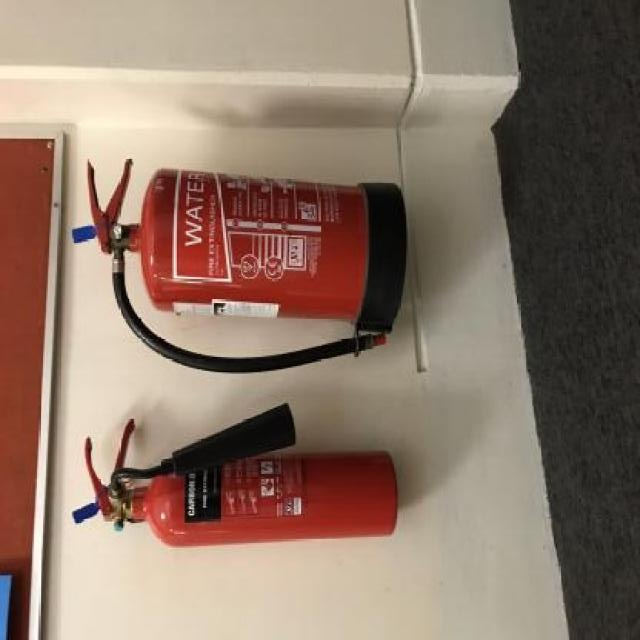fire extinguisher: (85, 158, 408, 374), (84, 401, 398, 548)
